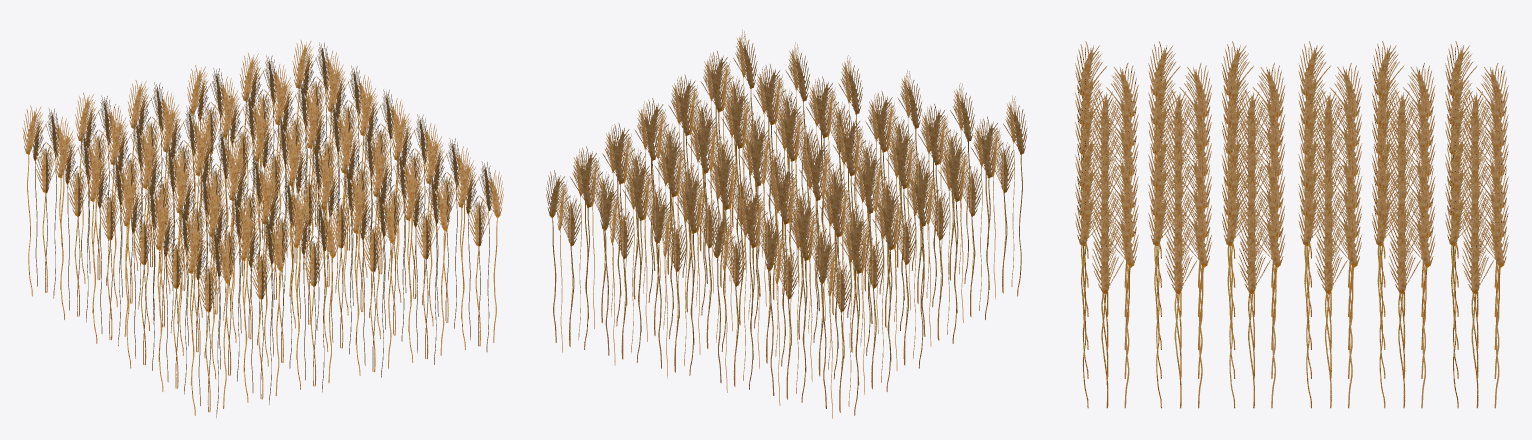
File: Corn.FBX
3 views of the same model, side by side, from view 1: azimuth 30°, elevation 25°; view 2: azimuth 150°, elevation 25°; view 3: azimuth 270°, elevation 25° (orthographic). The views are drawn at different scales.
Parts seen in each view (by area): view 1: Corn39, Corn45, Corn59, Corn41, Corn57, Corn63, Corn27, Corn72, Corn30, Corn66, Corn36, Corn48 (+60 smaller); view 2: Corn15, Corn18, Corn33, Corn35, Corn17, Corn36, Corn72, Corn27, Corn66, Corn30, Corn63, Corn12 (+60 smaller); view 3: Corn10, Corn46, Corn52, Corn05, Corn16, Corn40, Corn43, Corn03, Corn38, Corn14, Corn08, Corn50 (+24 smaller).
Part boxes in pixels (bbox=[...]): Corn39: bbox=[402, 172, 451, 362]; Corn45: bbox=[350, 184, 398, 375]; Corn59: bbox=[290, 199, 338, 389]; Corn41: bbox=[455, 159, 503, 349]; Corn57: bbox=[238, 212, 286, 402]; Corn63: bbox=[185, 225, 233, 415]; Corn27: bbox=[87, 153, 135, 343]; Corn72: bbox=[121, 177, 169, 368]; Corn30: bbox=[55, 129, 103, 319]; Corn66: bbox=[153, 201, 201, 391]; Corn36: bbox=[22, 105, 70, 296]; Corn48: bbox=[317, 161, 366, 351]; Corn15: bbox=[598, 172, 647, 362]; Corn18: bbox=[651, 184, 699, 375]; Corn33: bbox=[763, 212, 811, 402]; Corn35: bbox=[711, 199, 759, 389]; Corn17: bbox=[546, 159, 594, 349]; Corn36: bbox=[816, 225, 864, 415]; Corn72: bbox=[914, 153, 962, 343]; Corn27: bbox=[882, 177, 928, 368]; Corn66: bbox=[948, 129, 994, 319]; Corn30: bbox=[849, 201, 896, 391]; Corn63: bbox=[980, 105, 1027, 296]; Corn12: bbox=[685, 161, 732, 351]; Corn10: bbox=[1372, 190, 1435, 408]; Corn46: bbox=[1148, 191, 1211, 408]; Corn52: bbox=[1221, 191, 1285, 408]; Corn05: bbox=[1298, 191, 1362, 408]; Corn16: bbox=[1445, 190, 1508, 408]; Corn40: bbox=[1075, 191, 1138, 408]; Corn43: bbox=[1148, 162, 1211, 378]; Corn03: bbox=[1298, 162, 1361, 378]; Corn38: bbox=[1075, 161, 1138, 378]; Corn14: bbox=[1445, 161, 1508, 378]; Corn08: bbox=[1372, 161, 1435, 378]; Corn50: bbox=[1222, 161, 1285, 378].
Bounding box in the file's own units: 192 × 110 × 199.
1 material, 1 textured.
